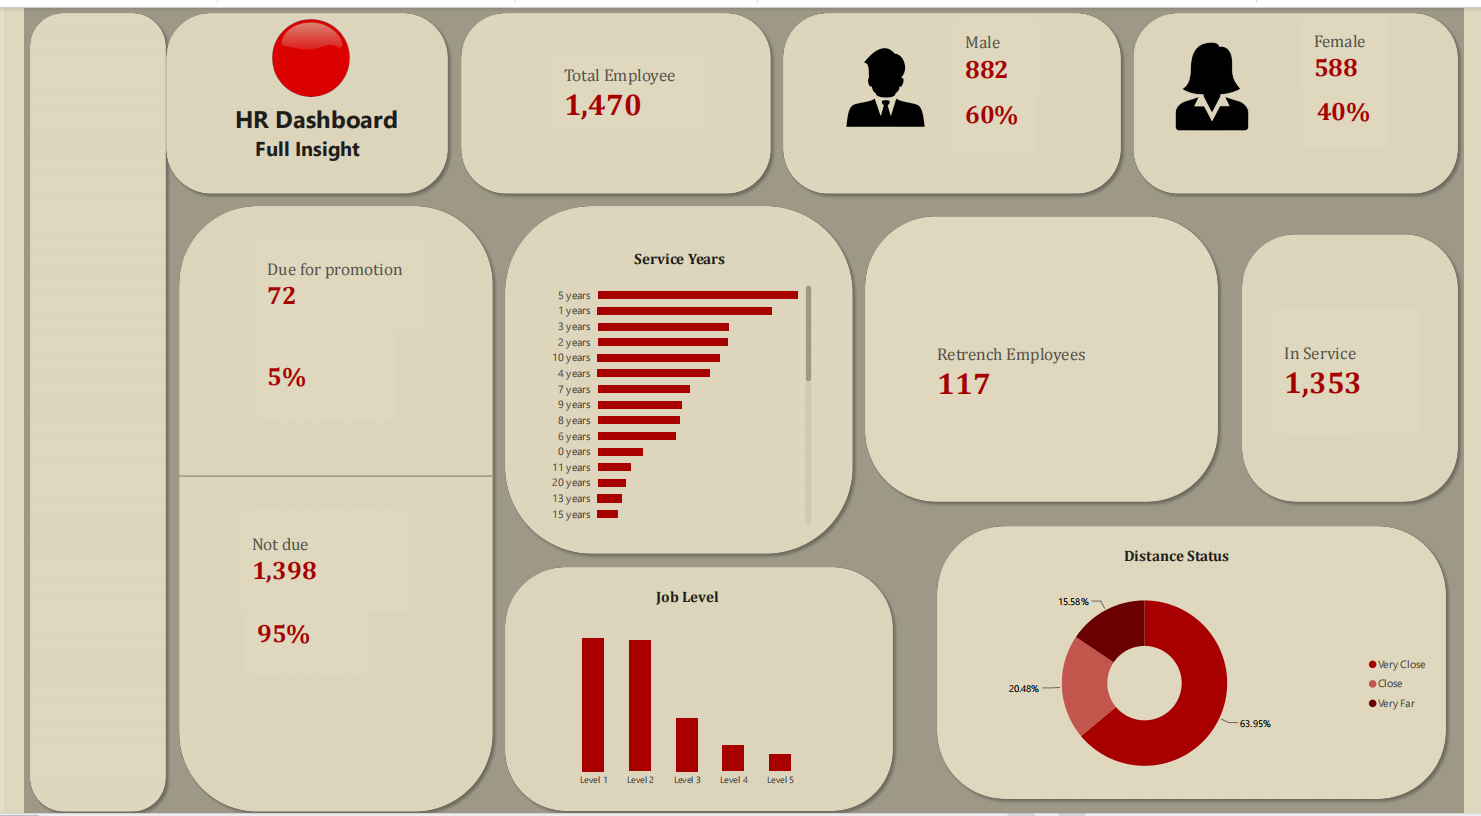

Layout of this report page (visuals, bound fields, positions):
{"tool":"powerbi","page":{"name":"Page 1","canvas":[1920,1080],"ordinal":0},"visuals":[{"type":"shape","box":[0,0,197.6,1080.6],"z":0},{"type":"shape","box":[181.1,0,393.1,257.3],"z":1000},{"type":"shape","box":[1192.6,669.6,727.5,410.8],"z":2000},{"type":"shape","box":[633.4,257,479.6,481.4],"z":3000},{"type":"shape","box":[197.6,257.3,436.4,823.3],"z":4000},{"type":"shape","box":[633.4,738.3,533.8,342],"z":5000},{"type":"shape","box":[573.7,0,430.7,257],"z":6000},{"type":"shape","box":[1004.4,0,466.9,257],"z":7000},{"type":"shape","box":[1471.3,0,448.8,257],"z":8000},{"type":"shape","box":[1616,295,304,372.8],"z":9000},{"type":"shape","box":[1112.9,271.4,486.8,396.3],"z":10000},{"type":"textbox","box":[197.6,121.4,362.3,119.4],"z":11000},{"type":"cardVisual","fields":{"Data":["All Measure.Total Emp"]},"box":[704,66,206,100],"z":12000},{"type":"cardVisual","fields":{"Data":["All Measure.Female Percent"]},"box":[1708.4,86.4,113.2,105],"z":13000},{"type":"cardVisual","fields":{"Data":["All Measure.Male Percent"]},"box":[1239.1,86.4,111.1,113.2],"z":14000},{"type":"cardVisual","fields":{"Data":["All Measure.Male"]},"box":[1239.1,16.5,117.3,105],"z":15000},{"type":"cardVisual","fields":{"Data":["All Measure.Female"]},"box":[1704.3,14.4,117.3,105],"z":16000},{"type":"cardVisual","fields":{"Data":["All Measure.Due for promotion"]},"box":[309.5,309.5,224,122],"z":17000},{"type":"cardVisual","fields":{"Data":["All Measure.Not due for promotion"]},"box":[288,668,224.4,140],"z":18000},{"type":"cardVisual","fields":{"Data":["All Measure.Percent for Due"]},"box":[309.5,430.7,185.2,121.4],"z":19000},{"type":"cardVisual","fields":{"Data":["All Measure.Percent for Not Due"]},"box":[295,776.3,166,114],"z":20000},{"type":"shape","box":[203.8,475.5,422,300.5],"z":21000},{"type":"image","box":[269.6,16.5,224.4,102.9],"z":22000},{"type":"image","box":[1096,44,105,125.6],"z":23000},{"type":"image","box":[1502.6,30.9,162.6,150.3],"z":24000},{"type":"cardVisual","fields":{"Data":["All Measure.Retrench"]},"box":[1201.6,390.9,300.4,195.4],"z":25000},{"type":"cardVisual","fields":{"Data":["All Measure.On Service"]},"box":[1664.9,401.7,197.3,168.3],"z":26000},{"type":"clusteredBarChart","title":"Service Years","fields":{"Category":["HR Analytics Data.Service Year"],"Y":["All Measure.Total Employee"]},"box":[684.1,309.5,381.8,396.3],"z":27000},{"type":"clusteredColumnChart","title":"Job Level","fields":{"Category":["HR Analytics Data.Job Level"],"Y":["All Measure.Total Employee"]},"box":[704,760.1,361.9,300.4],"z":28000},{"type":"donutChart","title":"Distance Status","fields":{"Category":["HR Analytics Data.Distance Status"],"Y":["All Measure.Total Employee"]},"box":[1180,705.5,714.5,354.5],"z":29000}]}

Visuals, with their boxes in screenshot pixels (x1, y1, x2, y2), scaled from the page's 1920x1080 canvas onto the 1481x816 screenshot:
shape: select_region(0, 0, 152, 815)
shape: select_region(140, 0, 443, 194)
shape: select_region(920, 506, 1480, 815)
shape: select_region(489, 194, 859, 558)
shape: select_region(152, 194, 489, 815)
shape: select_region(489, 558, 900, 815)
shape: select_region(443, 0, 775, 194)
shape: select_region(775, 0, 1135, 194)
shape: select_region(1135, 0, 1480, 194)
shape: select_region(1247, 223, 1480, 505)
shape: select_region(858, 205, 1234, 504)
textbox: select_region(152, 92, 432, 182)
cardVisual - All Measure.Total Emp: select_region(543, 50, 702, 125)
cardVisual - All Measure.Female Percent: select_region(1318, 65, 1405, 145)
cardVisual - All Measure.Male Percent: select_region(956, 65, 1041, 151)
cardVisual - All Measure.Male: select_region(956, 12, 1046, 92)
cardVisual - All Measure.Female: select_region(1315, 11, 1405, 90)
cardVisual - All Measure.Due for promotion: select_region(239, 234, 412, 326)
cardVisual - All Measure.Not due for promotion: select_region(222, 505, 395, 610)
cardVisual - All Measure.Percent for Due: select_region(239, 325, 382, 417)
cardVisual - All Measure.Percent for Not Due: select_region(228, 587, 356, 673)
shape: select_region(157, 359, 483, 586)
image: select_region(208, 12, 381, 90)
image: select_region(845, 33, 926, 128)
image: select_region(1159, 23, 1284, 137)
cardVisual - All Measure.Retrench: select_region(927, 295, 1159, 443)
cardVisual - All Measure.On Service: select_region(1284, 304, 1436, 431)
"Service Years" clusteredBarChart: select_region(528, 234, 822, 533)
"Job Level" clusteredColumnChart: select_region(543, 574, 822, 801)
"Distance Status" donutChart: select_region(910, 533, 1461, 801)
